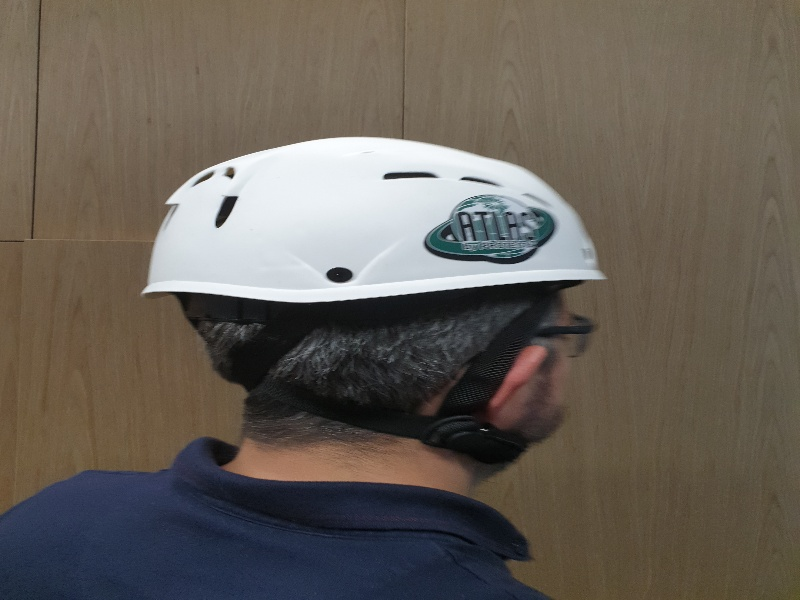Baret: (144, 136, 610, 292)
